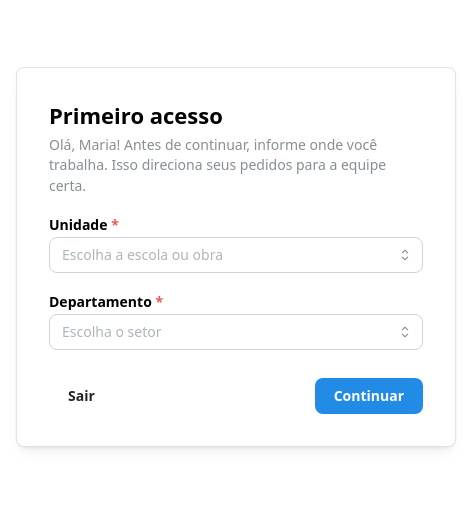
Primeiro acesso (T16) › erro 422 da API aparece no formulário
Click the dropdown labelled "Unidade *" at [236, 255], box [49,237,423,273]
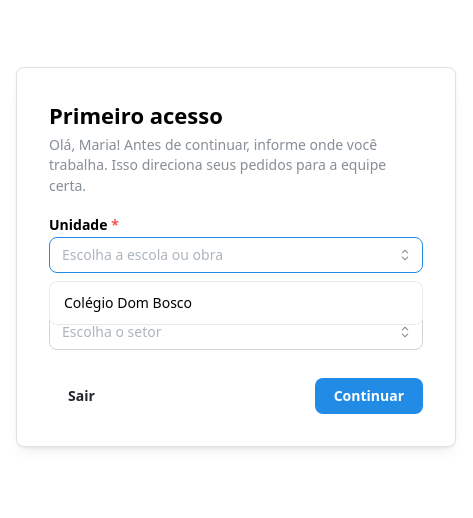
Click the option "Colégio Dom Bosco" at [128, 302], box [64,293,192,312]
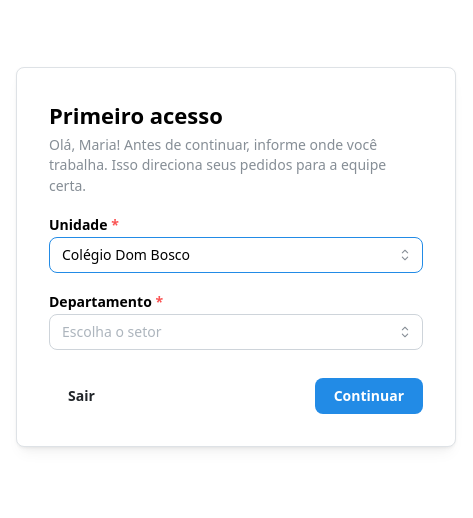
Click the dropdown labelled "Departamento *" at [236, 332], box [49,314,423,350]
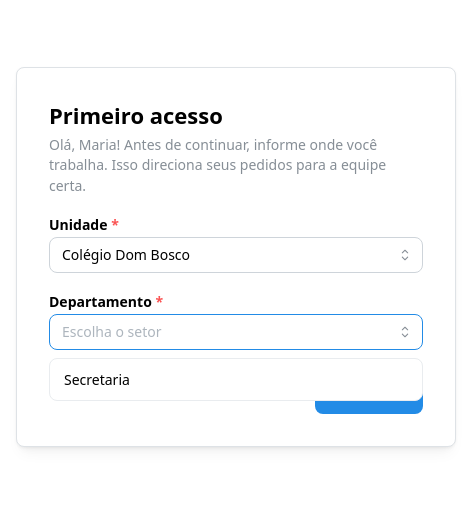
Click the option "Secretaria" at [97, 379], box [64,370,130,389]
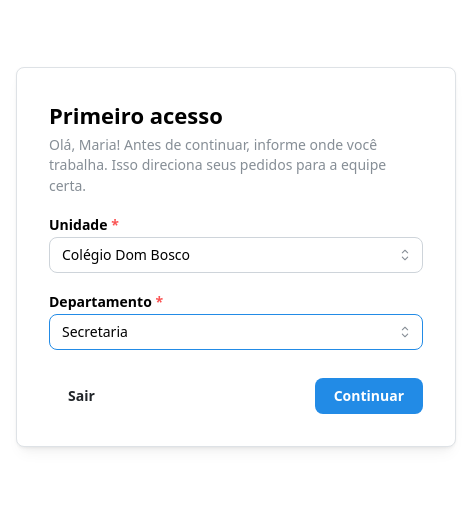
Click the button "Continuar" at [369, 396], box [315,378,423,414]
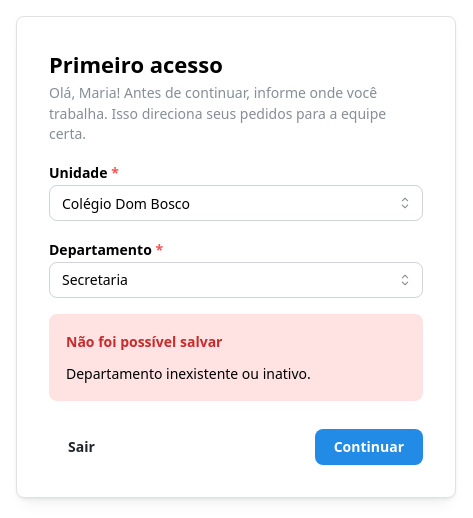
Expected: the text "Departamento inexistente ou inativo." is shown, [66,364,311,383]
